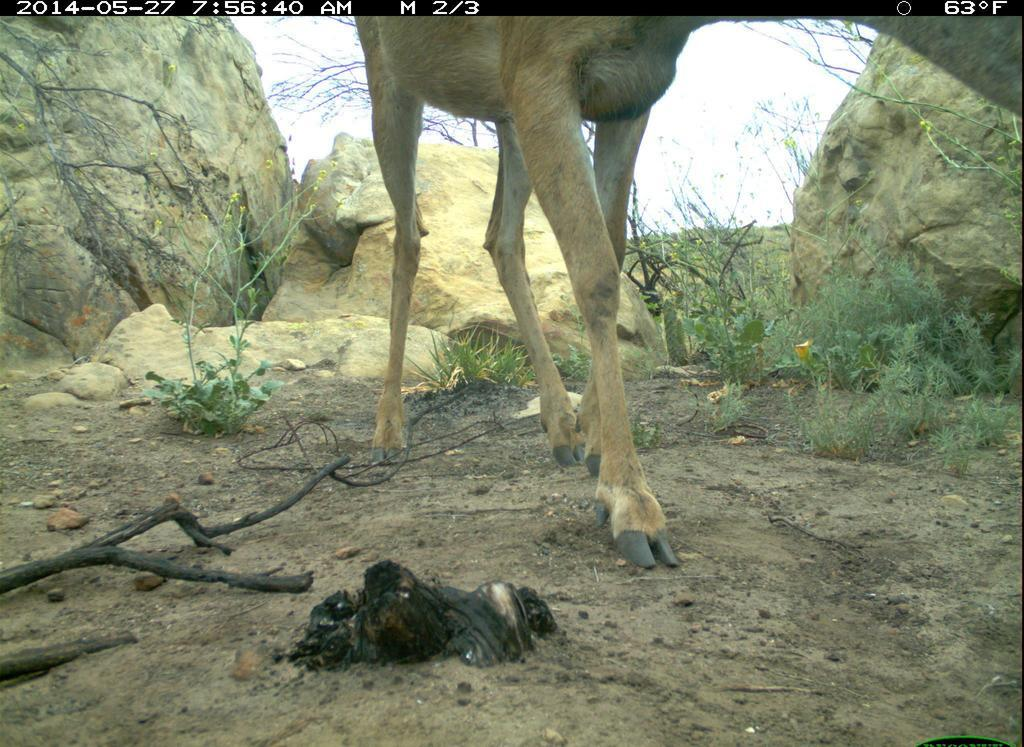deer: (353, 17, 793, 573)
